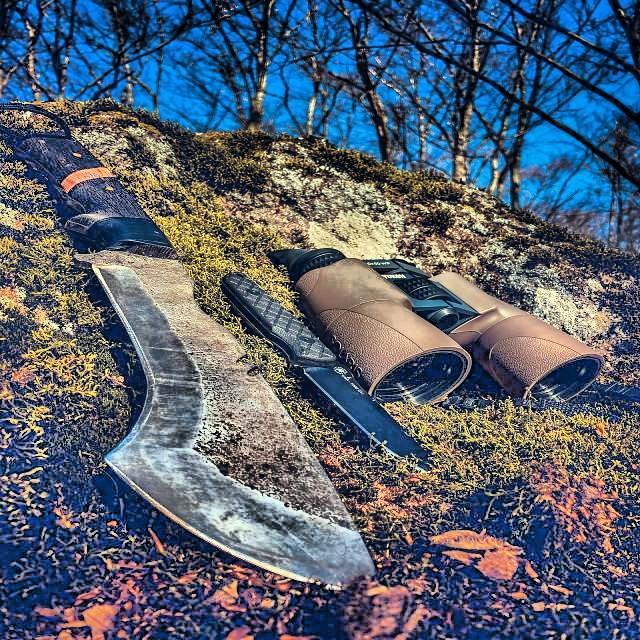knife: (3, 105, 400, 596), (223, 266, 447, 488)
